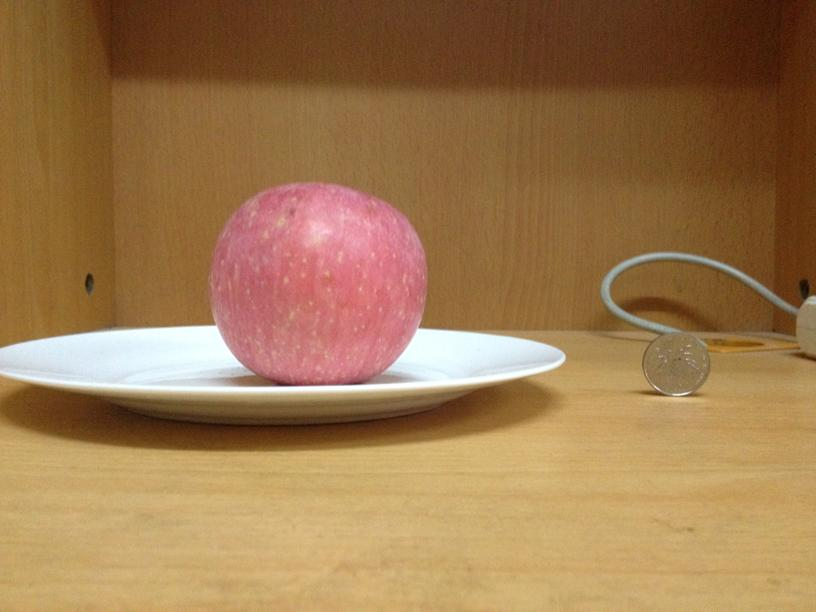apple: (208, 180, 426, 382)
coin: (643, 329, 710, 397)
